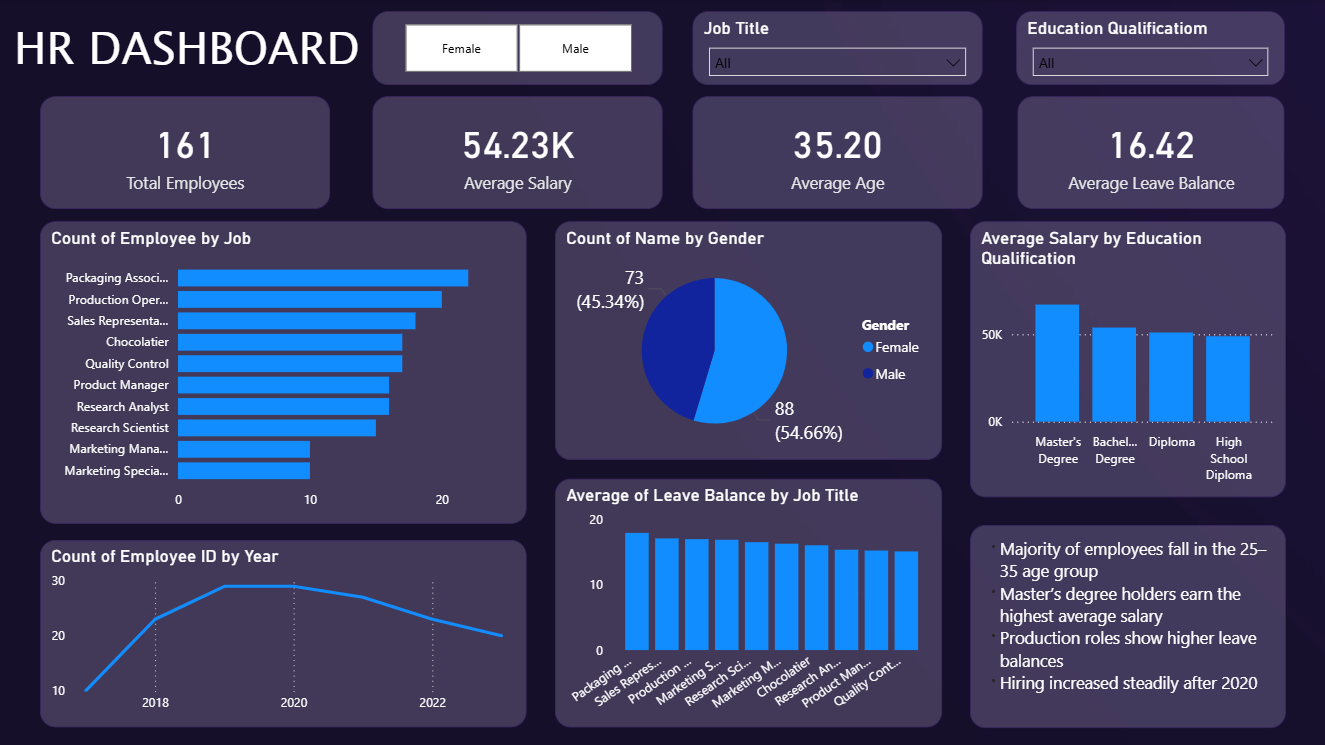

Layout of this report page (visuals, bound fields, positions):
{"tool":"powerbi","page":{"name":"Page 1","canvas":[1280,720],"ordinal":0},"visuals":[{"type":"textbox","box":[0,0,371.9,82.3],"z":0},{"type":"card","fields":{"Values":["HR.Total Employees"]},"box":[38.4,93.3,279.9,108.4],"z":1000},{"type":"card","fields":{"Values":["HR.Average Age"]},"box":[668.3,93.3,279.9,108.4],"z":2000},{"type":"card","fields":{"Values":["HR.Average Leave Balance"]},"box":[982.5,93.3,258,108.4],"z":3000},{"type":"card","fields":{"Values":["HR.Average Salary"]},"box":[359.5,93.3,279.9,108.4],"z":4000},{"type":"clusteredBarChart","title":"Count of Employee by Job","fields":{"Category":["HR.Job Title"],"Y":["CountNonNull(HR.Employee ID)"]},"box":[38.4,214.1,469.3,292.3],"z":5000},{"type":"pieChart","fields":{"Category":["HR.Gender"],"Y":["CountNonNull(HR.Name)"]},"box":[535.2,214.1,373.2,230.5],"z":6000},{"type":"columnChart","fields":{"Category":["HR.Education Qualification"],"Y":["HR.Average Salary"]},"box":[935.9,214.1,304.6,266.2],"z":7000},{"type":"lineChart","fields":{"Category":["HR.Join Date.Variation.Date Hierarchy.Year"],"Y":["CountNonNull(HR.Employee ID)"]},"box":[38.4,521.4,469.3,181.1],"z":8000},{"type":"columnChart","fields":{"Category":["HR.Job Title"],"Y":["Avg(HR.Leave Balance)"]},"box":[535.2,462.4,373.2,240.1],"z":9000},{"type":"textbox","box":[935.9,506.3,304.6,196.2],"z":10000},{"type":"slicer","fields":{"Values":["HR.Gender"]},"box":[359.5,11,279.9,71.4],"z":10001},{"type":"slicer","title":"Job Title","fields":{"Values":["HR.Job Title"]},"box":[668.3,11,279.9,71.4],"z":10002},{"type":"slicer","title":"Education Qualificatiom","fields":{"Values":["HR.Education Qualification"]},"box":[981.1,11,259.3,71.4],"z":10003}]}

Visuals, with their boxes in screenshot pixels (x1, y1, x2, y2), scaled from the page's 1280x720 canvas onto the 1325x745 screenshot:
textbox: rect(0, 0, 385, 85)
card - HR.Total Employees: rect(40, 97, 329, 209)
card - HR.Average Age: rect(692, 97, 982, 209)
card - HR.Average Leave Balance: rect(1017, 97, 1284, 209)
card - HR.Average Salary: rect(372, 97, 662, 209)
"Count of Employee by Job" clusteredBarChart: rect(40, 222, 526, 524)
pieChart - HR.Gender x CountNonNull(HR.Name): rect(554, 222, 940, 460)
columnChart - HR.Education Qualification x HR.Average Salary: rect(969, 222, 1284, 497)
lineChart - HR.Join Date.Variation.Date Hierarchy.Year x CountNonNull(HR.Employee ID): rect(40, 540, 526, 727)
columnChart - HR.Job Title x Avg(HR.Leave Balance): rect(554, 478, 940, 727)
textbox: rect(969, 524, 1284, 727)
slicer - HR.Gender: rect(372, 11, 662, 85)
"Job Title" slicer: rect(692, 11, 982, 85)
"Education Qualificatiom" slicer: rect(1016, 11, 1284, 85)
